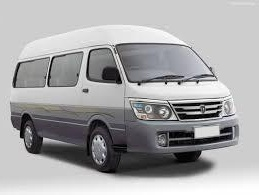van: (4, 21, 242, 166)
